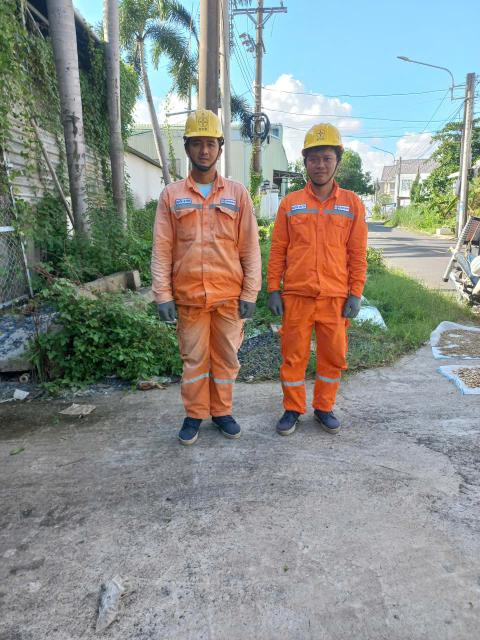gloves: (156, 295, 194, 327), (341, 287, 373, 322), (235, 294, 263, 331), (257, 286, 291, 316)
helmet: (285, 120, 354, 160), (175, 97, 228, 142)
shoes: (170, 404, 217, 447), (212, 400, 247, 447), (309, 402, 349, 442), (273, 400, 305, 449)
